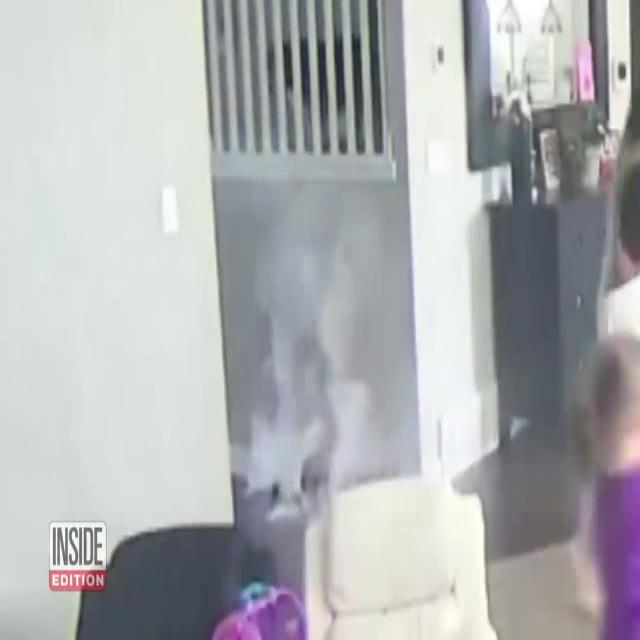Smoke: (238, 180, 378, 514)
